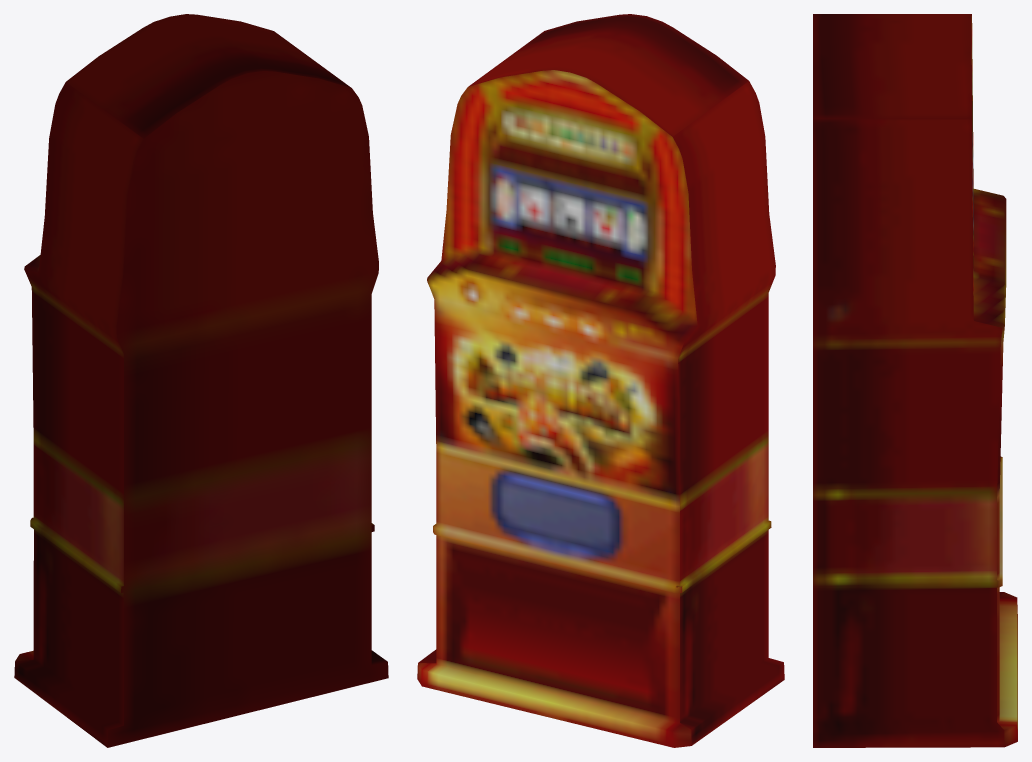
The model's file is icon.ico.obj.
3 renders of one model, left to right at view 1: azimuth 30°, elevation 25°; view 2: azimuth 150°, elevation 25°; view 3: azimuth 270°, elevation 25°, orthographic. The views are drawn at different scales.
Bounding box in the file's own units: 2.3 × 5 × 1.42.
1 material, 1 textured.
